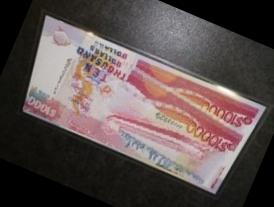10000SingaporeDollar: (23, 21, 258, 194)
